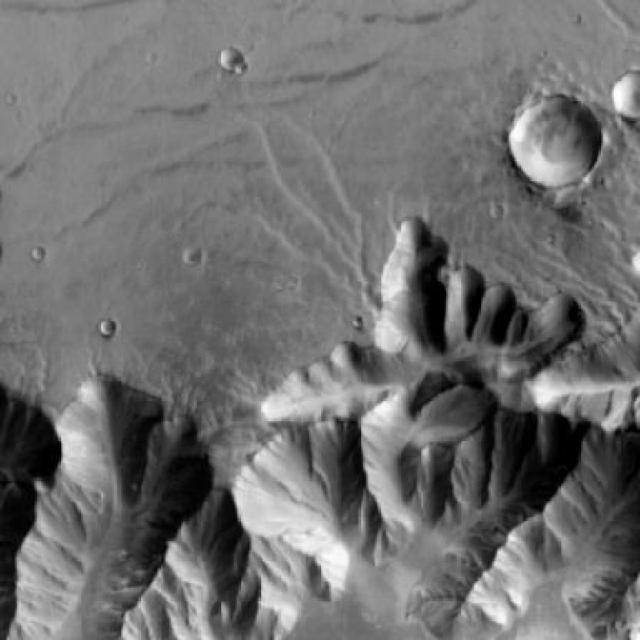crater: (512, 93, 605, 185), (603, 75, 640, 123), (222, 52, 242, 72), (183, 252, 202, 271), (100, 322, 118, 338)
